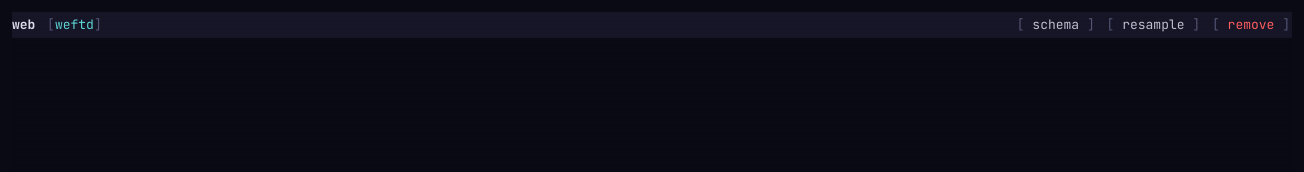
Test case: ConfiguredSourcesList schema panel › says a weft SDK source has nothing to extract
The width and height of the screenshot is (1304, 172).
Click the button with test id "configured-source-web-viewschema-button" at x=1056, y=25, box [1015,15,1097,34]
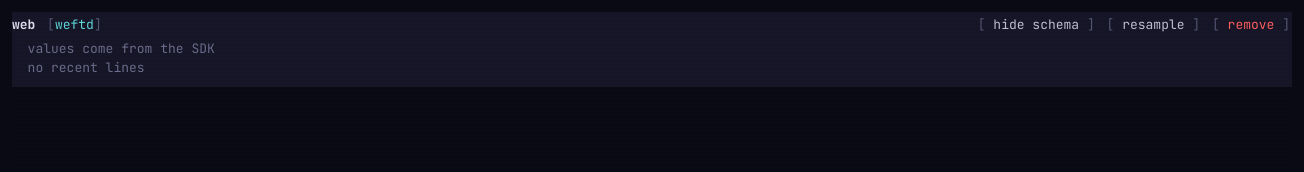
Check: the text with test id "configured-source-web-schema-sdk-note" reads "values come from the SDK", box [28,40,215,56]
